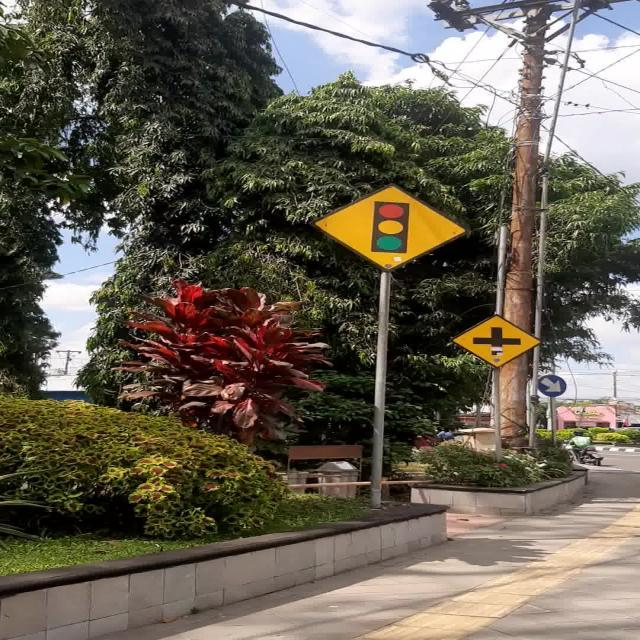Lampu Lalu Lintas: (311, 183, 469, 272)
